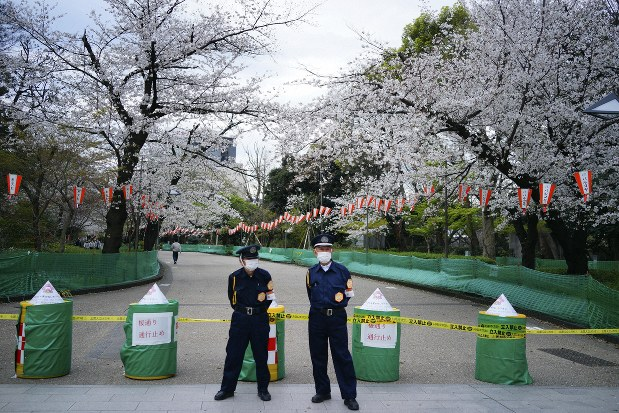Person: (307, 234, 358, 411), (215, 244, 273, 399)
